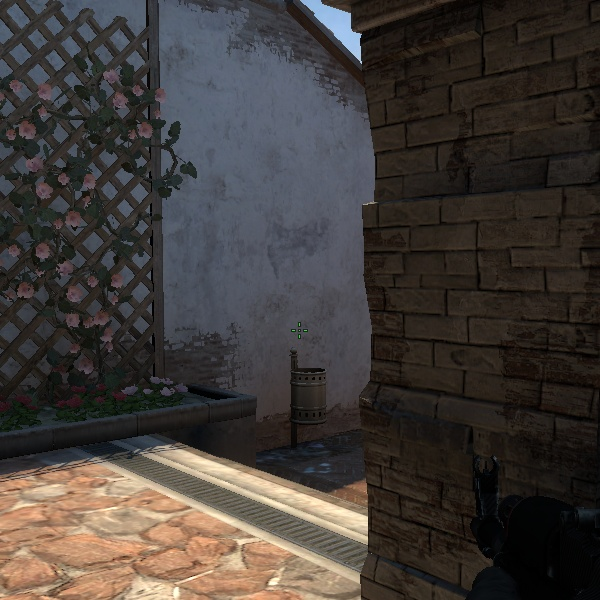ct_body: (8, 0, 203, 536)
